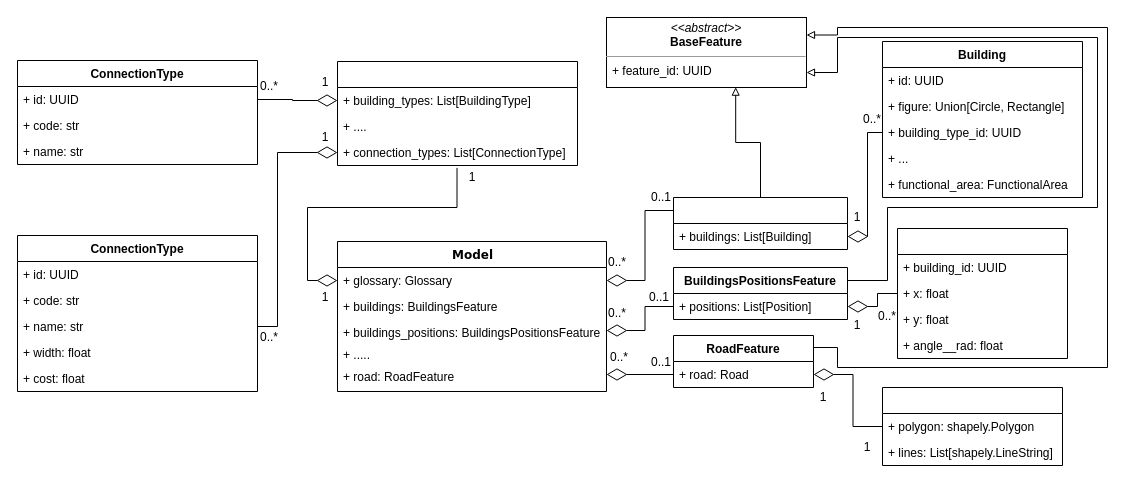
Image size: 1133x486. Some labels were removed from this diagram. The box of each missing label's shape, as (x1, y1, x2, y2) in pixels:
BuildingsFeature: (672, 196, 848, 250)
Glossary: (336, 60, 578, 166)
Position: (896, 228, 1068, 358)
Road: (882, 386, 1062, 466)
